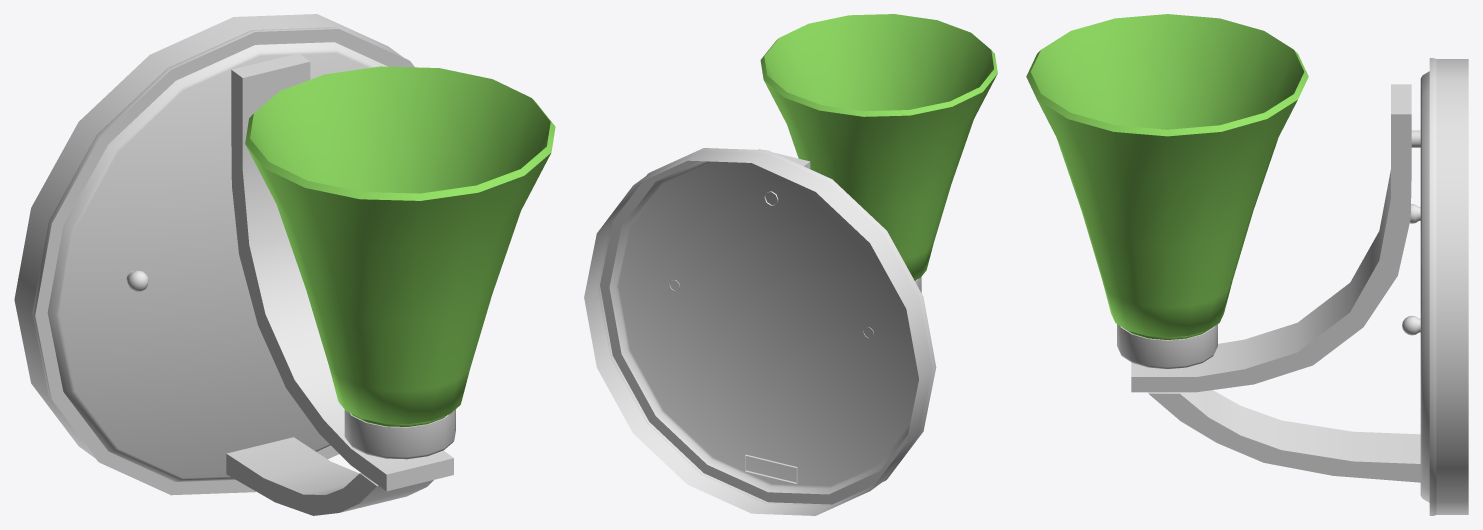
File: InteriorLight02.fbx
3 renders of one model, left to right at view 1: azimuth 30°, elevation 25°; view 2: azimuth 150°, elevation 25°; view 3: azimuth 270°, elevation 25°, orthographic. The views are drawn at different scales.
Visible parts, largest first — view 1: Circle_001; view 2: Circle_001; view 3: Circle_001.
Boxes of the visible parts, <box> form: Circle_001: <box>14,14,555,515</box>; Circle_001: <box>584,14,997,515</box>; Circle_001: <box>1026,14,1468,515</box>.
Size of the model in its own units: 50.19 by 51.09 by 48.46.
